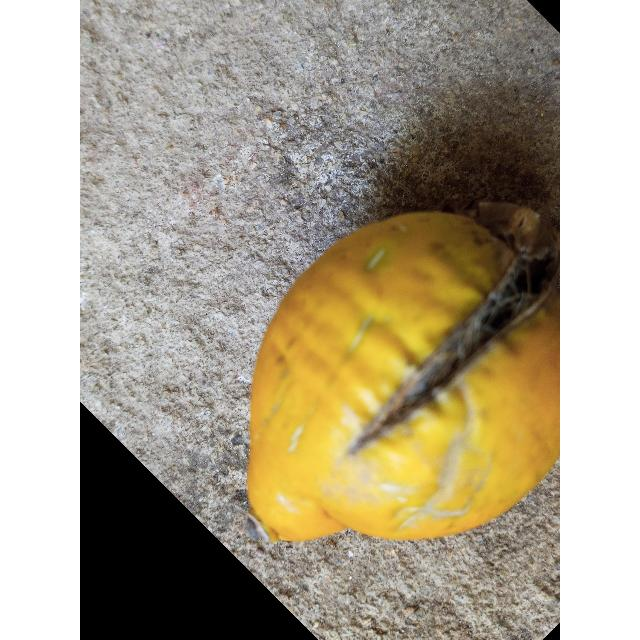damaged: (246, 209, 560, 546)
